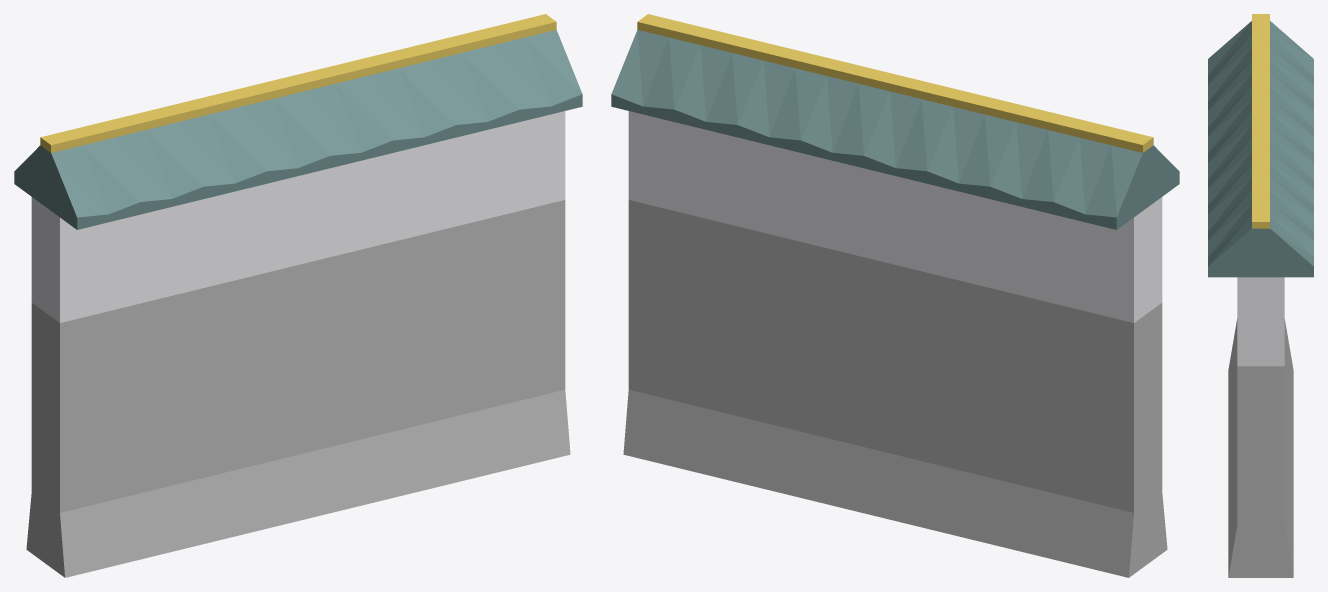
Rendered from Wall_1.fbx.
The picture shows the model from 3 angles, left to right: view 1: azimuth 30°, elevation 25°; view 2: azimuth 150°, elevation 25°; view 3: azimuth 270°, elevation 25°; orthographic projection. The views are drawn at different scales.
Visible parts, largest first — view 1: Asian_Prop_Building_Fence_Wall_High_04.003, Asian_Prop_Building_Fence_Wall_High_04, Asian_Prop_Building_Fence_Wall_High_04.001, Asian_Prop_Building_Fence_Wall_High_04.002; view 2: Asian_Prop_Building_Fence_Wall_High_04.003, Asian_Prop_Building_Fence_Wall_High_04, Asian_Prop_Building_Fence_Wall_High_04.001, Asian_Prop_Building_Fence_Wall_High_04.002; view 3: Asian_Prop_Building_Fence_Wall_High_04.001, Asian_Prop_Building_Fence_Wall_High_04.003, Asian_Prop_Building_Fence_Wall_High_04, Asian_Prop_Building_Fence_Wall_High_04.002.
Boxes of the visible parts, x1,y1,x2,y2 form: Asian_Prop_Building_Fence_Wall_High_04.003: (26,200,570,577); Asian_Prop_Building_Fence_Wall_High_04: (31,111,565,322); Asian_Prop_Building_Fence_Wall_High_04.001: (14,30,582,229); Asian_Prop_Building_Fence_Wall_High_04.002: (40,14,556,152); Asian_Prop_Building_Fence_Wall_High_04.003: (623,200,1167,577); Asian_Prop_Building_Fence_Wall_High_04: (628,111,1162,322); Asian_Prop_Building_Fence_Wall_High_04.001: (611,30,1179,229); Asian_Prop_Building_Fence_Wall_High_04.002: (637,14,1153,152); Asian_Prop_Building_Fence_Wall_High_04.001: (1208,21,1313,277); Asian_Prop_Building_Fence_Wall_High_04.003: (1228,319,1293,577); Asian_Prop_Building_Fence_Wall_High_04: (1237,277,1284,366); Asian_Prop_Building_Fence_Wall_High_04.002: (1252,14,1269,228).
Bounding box in the file's own units: 517 × 413 × 111.
